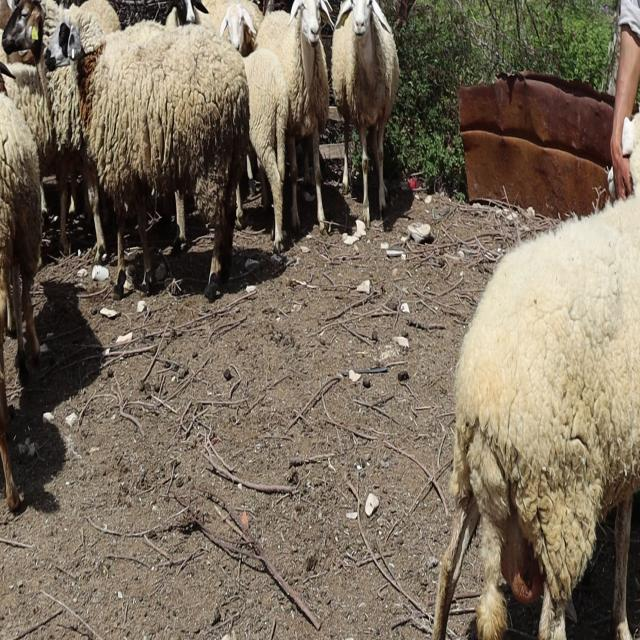Score_3: (432, 113, 640, 639)
